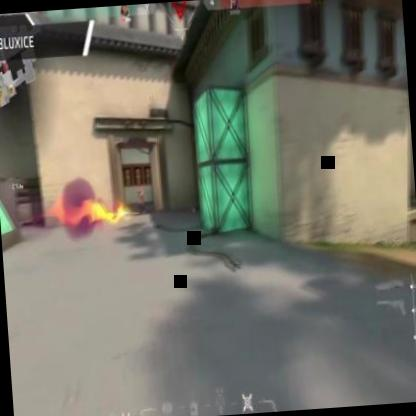enemy: (138, 184, 146, 218)
enemy_head: (139, 186, 142, 192)
